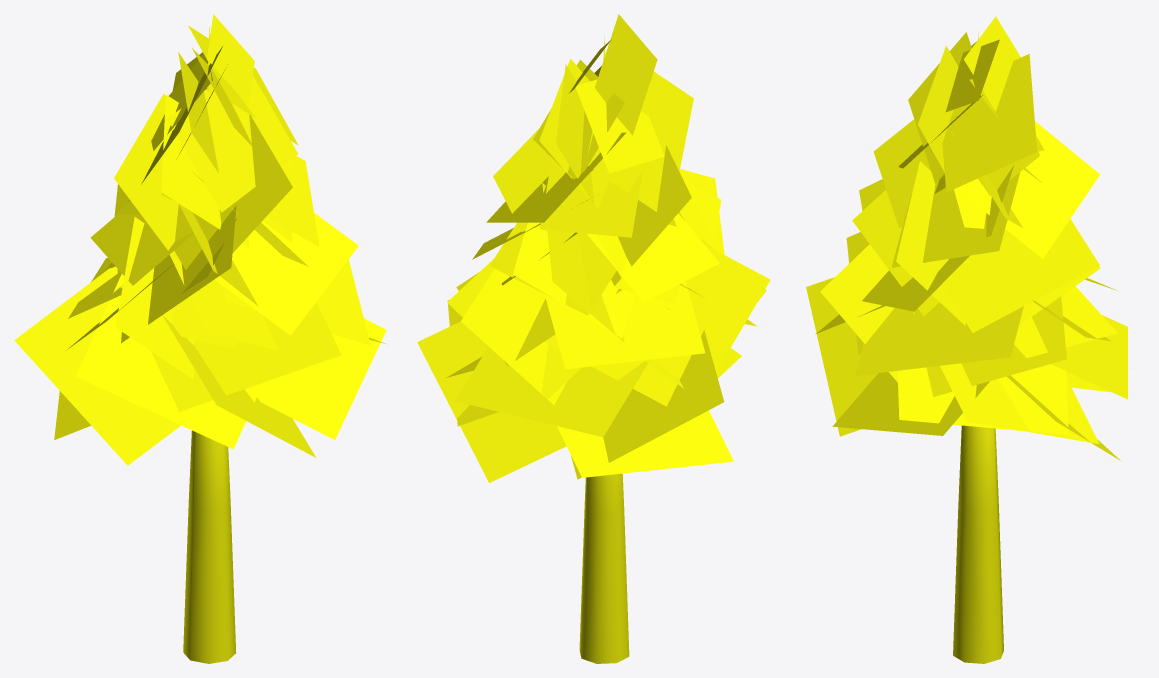
The model's file is forest_pine_1.glb.
3 views of the same model, side by side, from view 1: azimuth 30°, elevation 25°; view 2: azimuth 150°, elevation 25°; view 3: azimuth 270°, elevation 25° (orthographic).
Parts seen in each view (by area): view 1: Plane.013, Cylinder.020; view 2: Plane.013, Cylinder.020; view 3: Plane.013, Cylinder.020.
Boxes of the visible parts, left/top/right/bottom form: Plane.013: left=14, top=14, right=386, bottom=465; Cylinder.020: left=183, top=26, right=236, bottom=663; Plane.013: left=417, top=14, right=770, bottom=482; Cylinder.020: left=579, top=35, right=629, bottom=663; Plane.013: left=806, top=16, right=1127, bottom=460; Cylinder.020: left=953, top=31, right=1003, bottom=663.
Bounding box in the file's own units: 3.43 × 6.44 × 3.11.
Materials: 2 (2 with a texture image).
